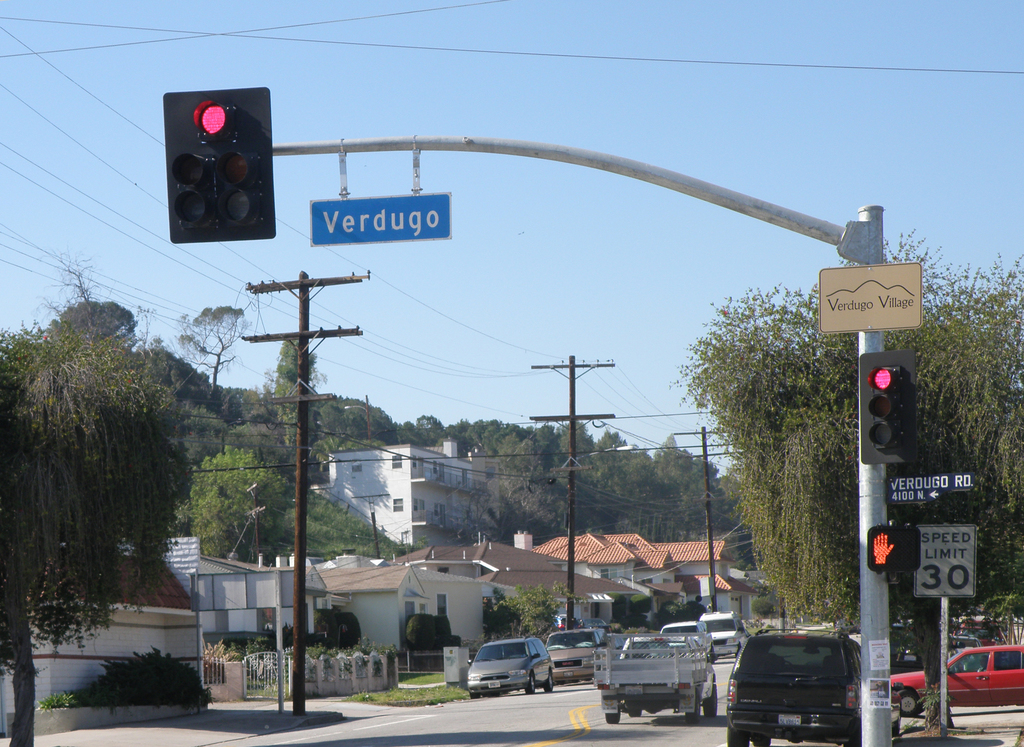red_light: (172, 94, 265, 234), (863, 358, 903, 458)
